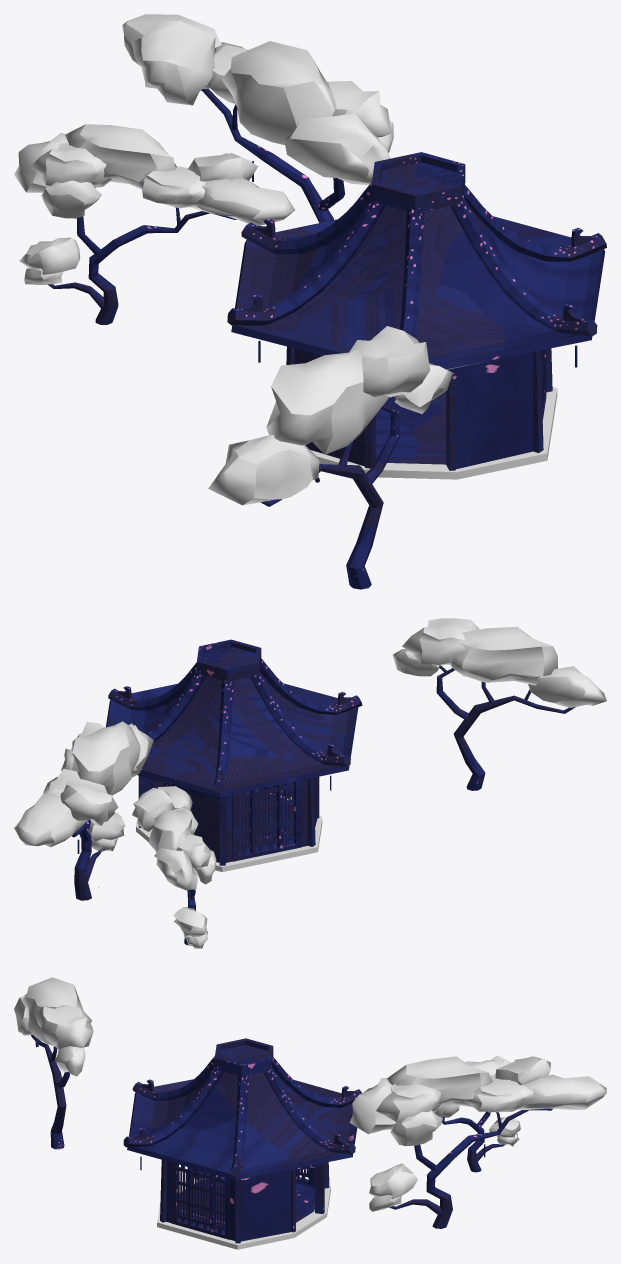
Rendered from japon.fbx.
3 views of the same model, one above another, from view 1: azimuth 30°, elevation 25°; view 2: azimuth 150°, elevation 25°; view 3: azimuth 270°, elevation 25° (orthographic). The views are drawn at different scales.
Visible parts, largest first — view 1: Object_27; view 2: Object_27; view 3: Object_27.
Boxes of the visible parts, x1,y1,x2,y2 form: Object_27: (14,14,606,589); Object_27: (14,618,606,948); Object_27: (14,977,606,1249).
Size of the model in its own units: 20231 by 8689 by 29656.
Materials: 13 (10 with a texture image).
